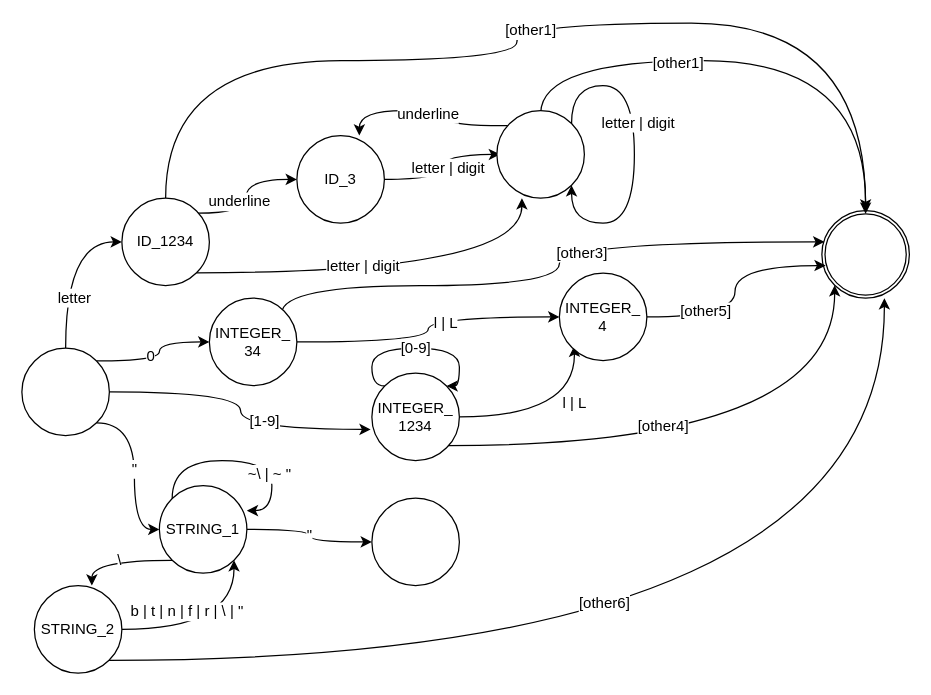
The diagram is 931 pixels wide and 695 high, and some of its shapes have lost their labels. Each missing label, with the centre of its shape:
DONE: point 865,253
ID_234: point 540,153
START: point 65,391
STRING_4: point 415,541
